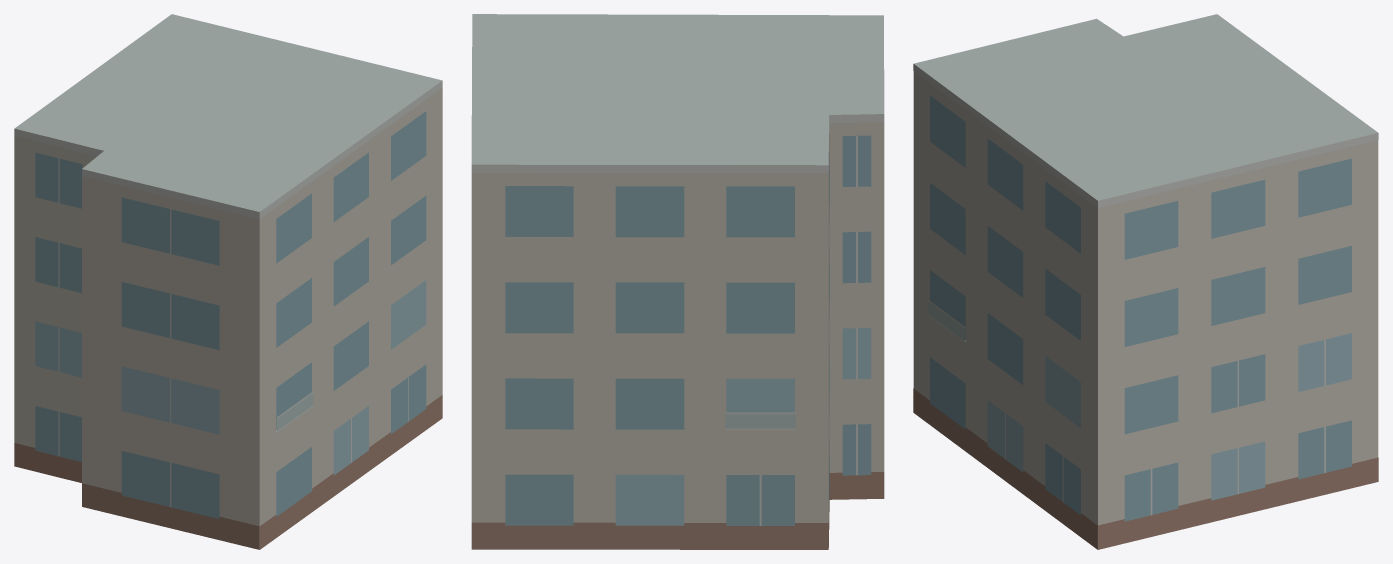
The model's file is survey-upis-32990077.glb.
3 views of the same model, side by side, from view 1: azimuth 30°, elevation 25°; view 2: azimuth 150°, elevation 25°; view 3: azimuth 270°, elevation 25° (orthographic). The views are drawn at different scales.
Visible parts, largest first — view 1: survey-upis-32990077.tmp; view 2: survey-upis-32990077.tmp; view 3: survey-upis-32990077.tmp.
Boxes of the visible parts, box(x1,y1,x2,y2) form: survey-upis-32990077.tmp: box(14, 14, 442, 549); survey-upis-32990077.tmp: box(471, 14, 884, 549); survey-upis-32990077.tmp: box(913, 14, 1378, 549).
Bounding box in the file's own units: 13.44 × 11.7 × 14.13.
